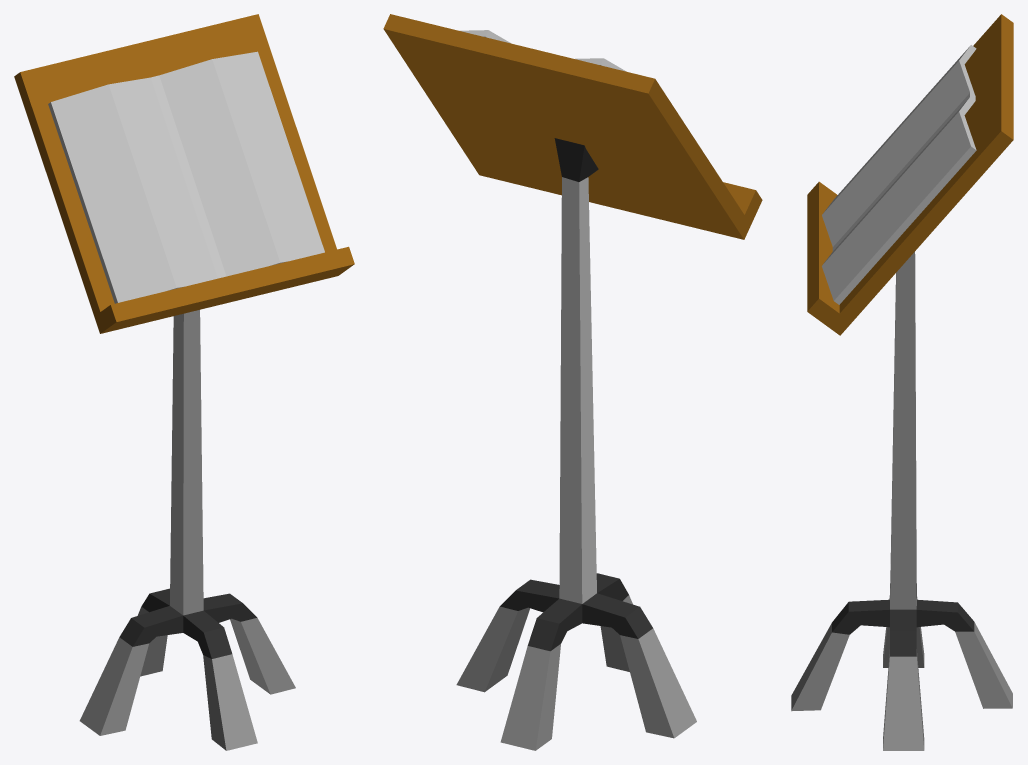
Rendered from kenhac.fbx.
3 views of the same model, side by side, from view 1: azimuth 30°, elevation 25°; view 2: azimuth 150°, elevation 25°; view 3: azimuth 270°, elevation 25° (orthographic). The views are drawn at different scales.
Visible parts, largest first — view 1: kenhac; view 2: kenhac; view 3: kenhac.
Boxes of the visible parts, bbox=[...] form: kenhac: bbox=[14, 14, 354, 750]; kenhac: bbox=[383, 14, 762, 750]; kenhac: bbox=[791, 14, 1013, 750].
Bounding box in the file's own units: 98.94 × 249 × 79.43.
